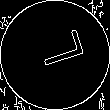L_W: (26, 32, 84, 78)
